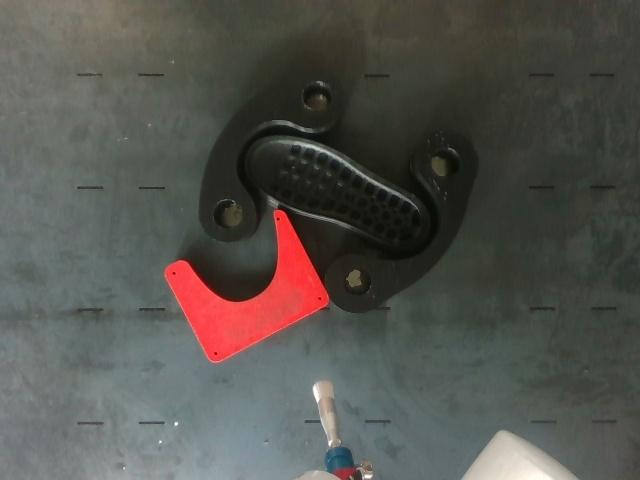shoes: (245, 135, 430, 247)
